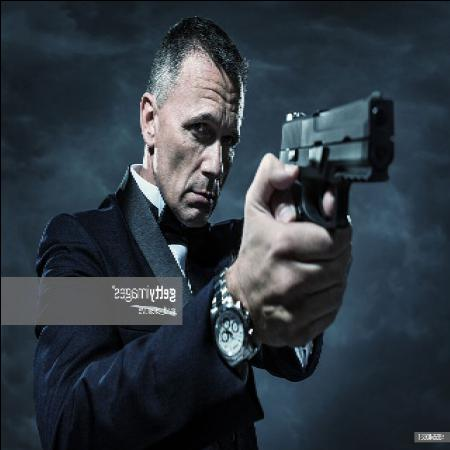Pistol: (275, 87, 400, 228)
